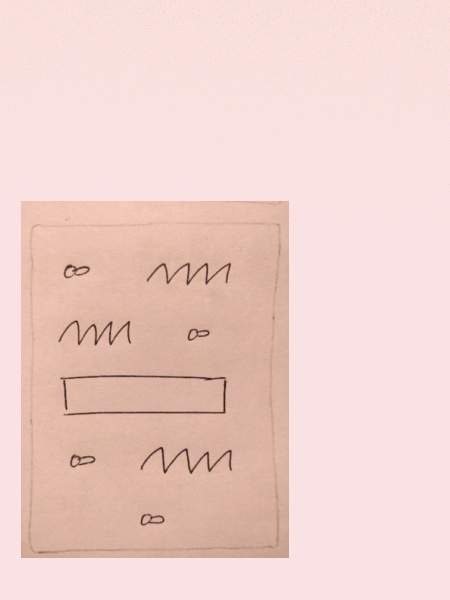switch: (61, 445, 107, 473), (58, 258, 97, 284), (178, 322, 216, 346), (136, 508, 170, 530)
text: (137, 442, 237, 476), (141, 255, 234, 291), (54, 315, 137, 350)
text_input: (52, 371, 238, 424)
